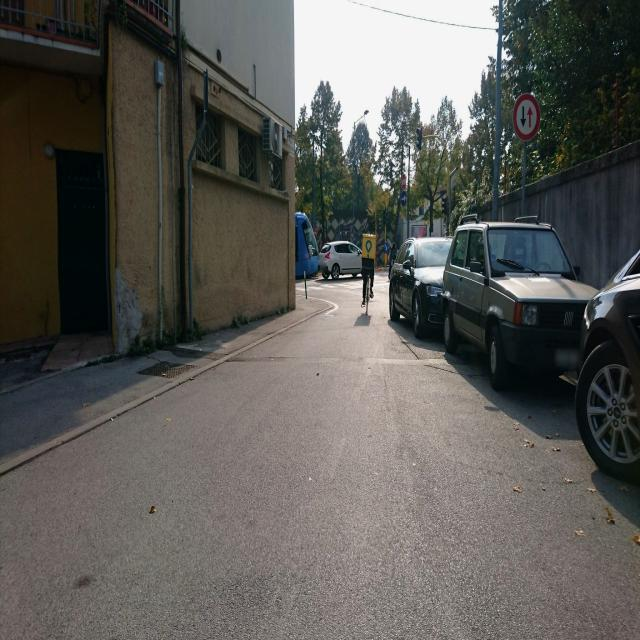car: (442, 216, 598, 391), (574, 237, 640, 484), (388, 234, 453, 339), (318, 240, 363, 282), (295, 211, 319, 280)
